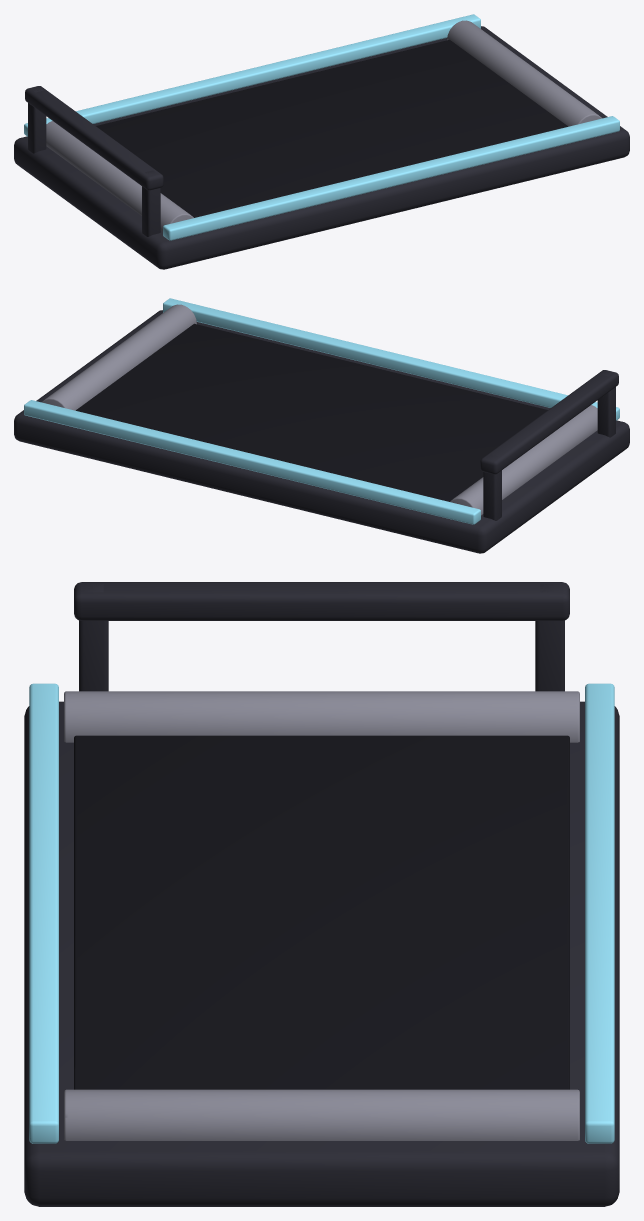
Rendered from Treadmill.fbx.
The picture shows the model from 3 angles, top to bottom: view 1: azimuth 30°, elevation 25°; view 2: azimuth 150°, elevation 25°; view 3: azimuth 270°, elevation 25°; orthographic projection. The views are drawn at different scales.
Visible parts, largest first — view 1: Treadmill; view 2: Treadmill; view 3: Treadmill.
Part boxes in pixels (x1,y1,x2,y2): Treadmill: (14,14,629,269); Treadmill: (14,298,629,553); Treadmill: (24,582,619,1206).
Size of the model in its own units: 22 by 3.8 by 12.
1 material, 1 textured.
